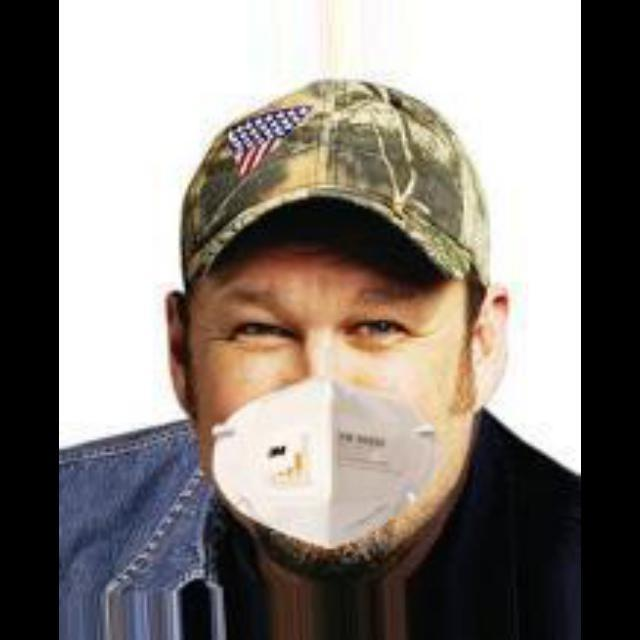suspicion: (170, 243, 494, 551)
